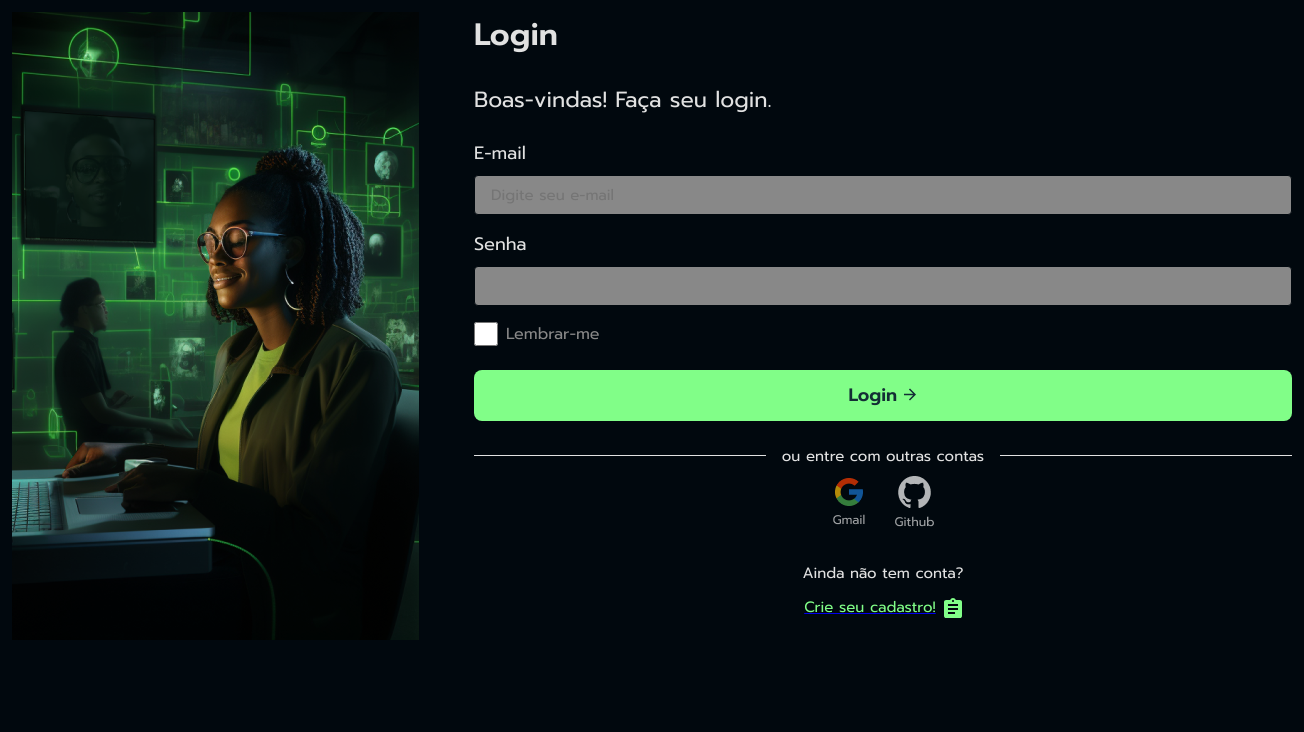
LoginForm › exibe a mensagem retornada por credenciais inválidas
Type "teste@exemplo.com" into the field labelled "E-mail" at (883, 194), box [474, 174, 1292, 214]
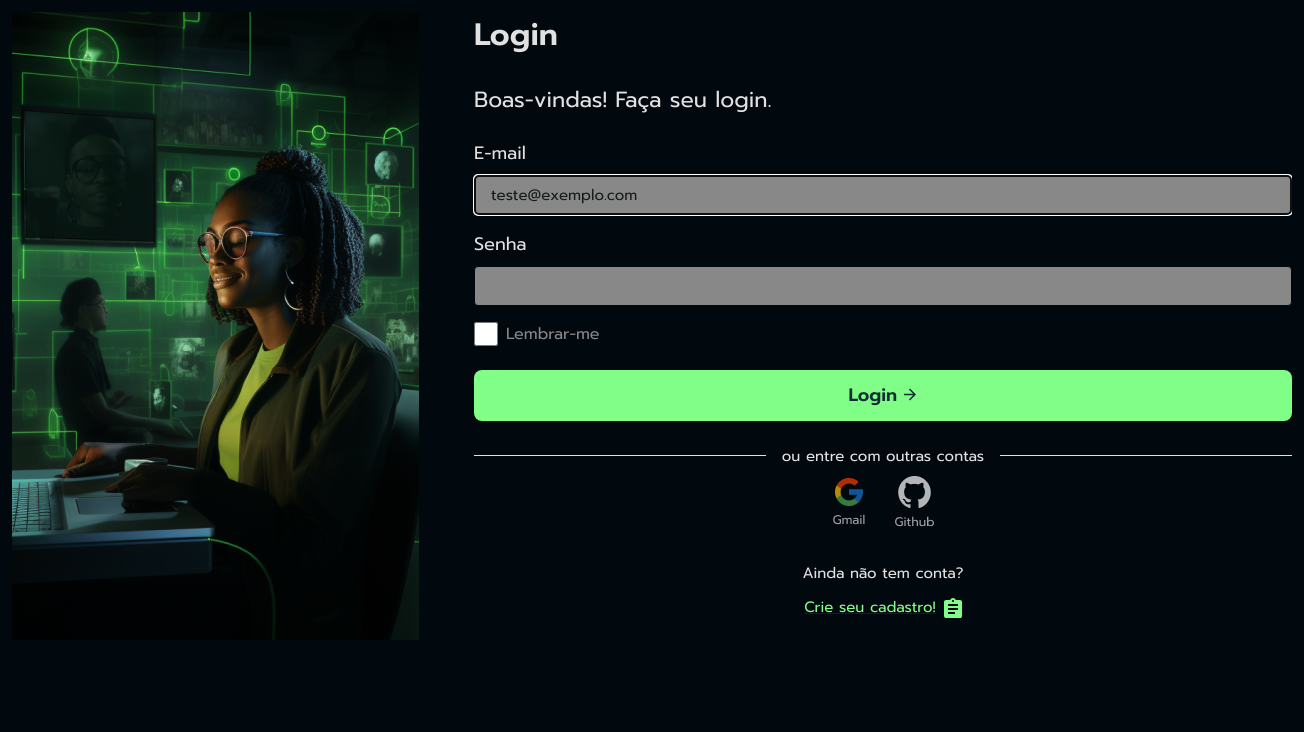
Type "senha-errada" into the password field labelled "Senha" at (883, 286), box [474, 266, 1292, 306]
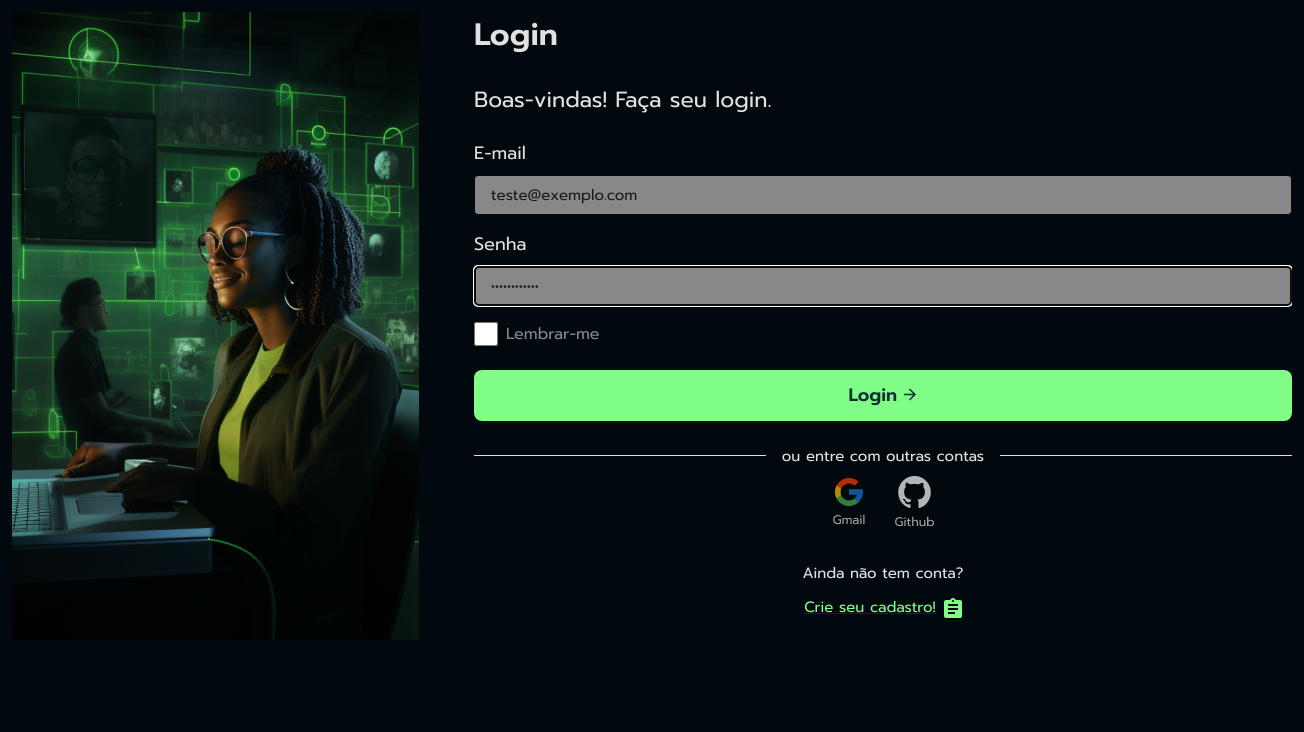
Click the button "Login" at (883, 395), box [474, 370, 1292, 420]
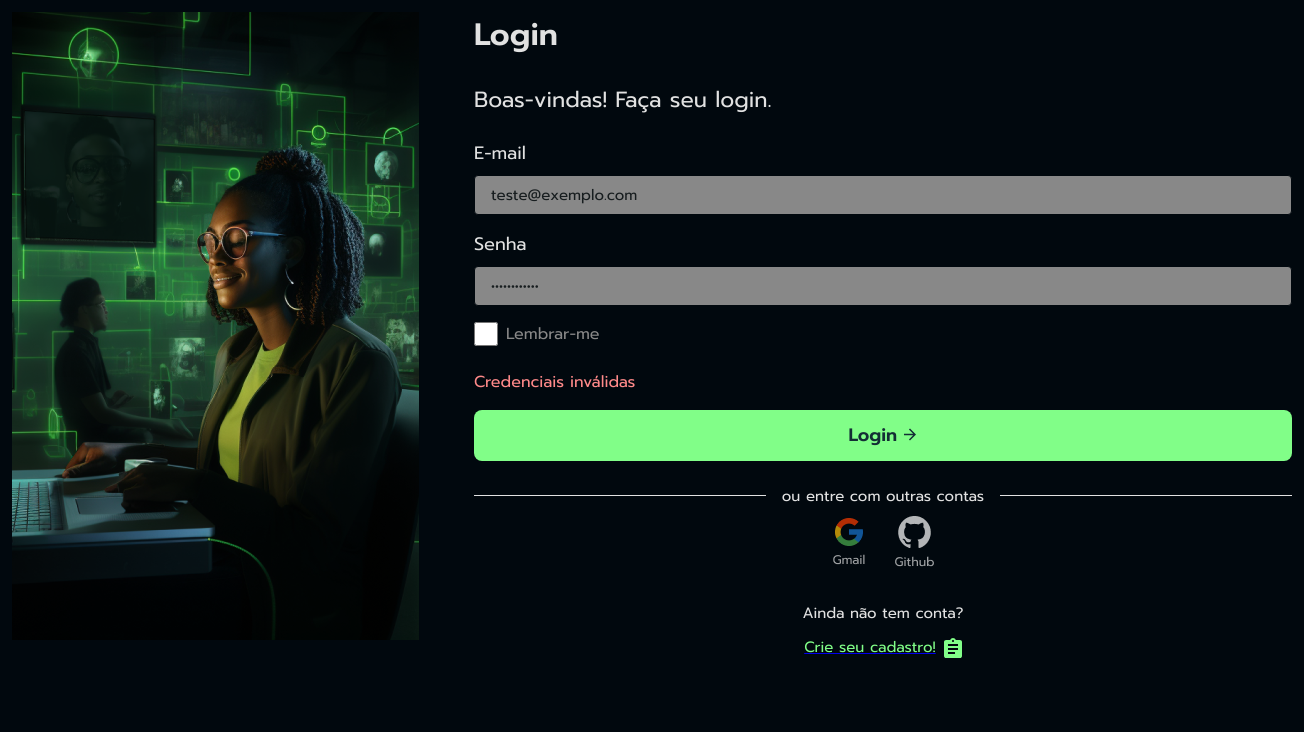
Expected: the message reads "Credenciais inválidas", [474, 370, 635, 394]
